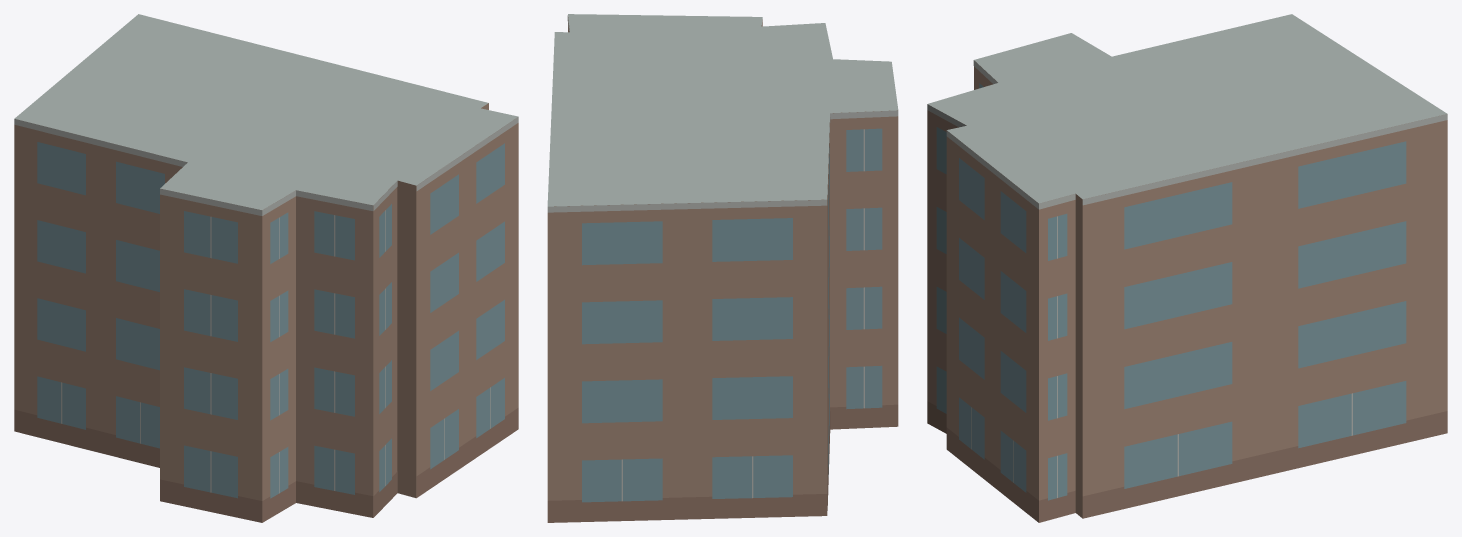
The model's file is survey-upis-32677124.glb.
3 views of the same model, side by side, from view 1: azimuth 30°, elevation 25°; view 2: azimuth 150°, elevation 25°; view 3: azimuth 270°, elevation 25° (orthographic). The views are drawn at different scales.
Parts seen in each view (by area): view 1: survey-upis-32677124.tmp; view 2: survey-upis-32677124.tmp; view 3: survey-upis-32677124.tmp.
Part boxes in pixels (<box>): survey-upis-32677124.tmp: <box>14,14,518,522</box>; survey-upis-32677124.tmp: <box>547,14,898,522</box>; survey-upis-32677124.tmp: <box>927,14,1447,522</box>.
Size of the model in its own units: 16.31 by 12.8 by 18.92.
